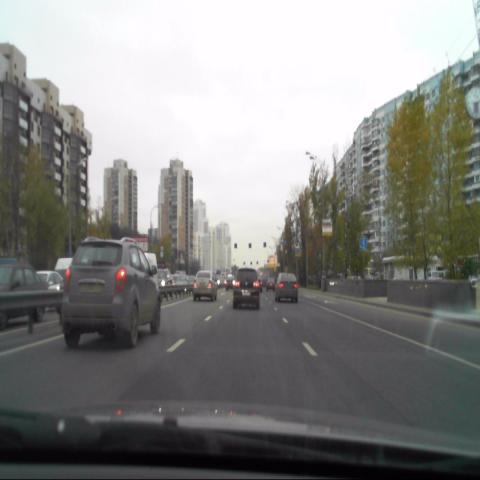6_6: (360, 237, 368, 250)
